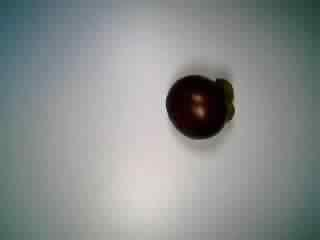mangosteen: (161, 67, 236, 142)
